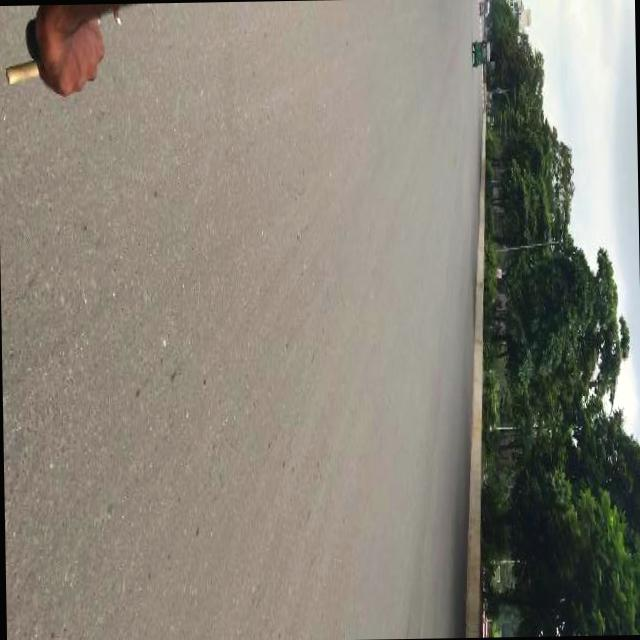motorcycle: (472, 38, 491, 66), (477, 0, 489, 15)
